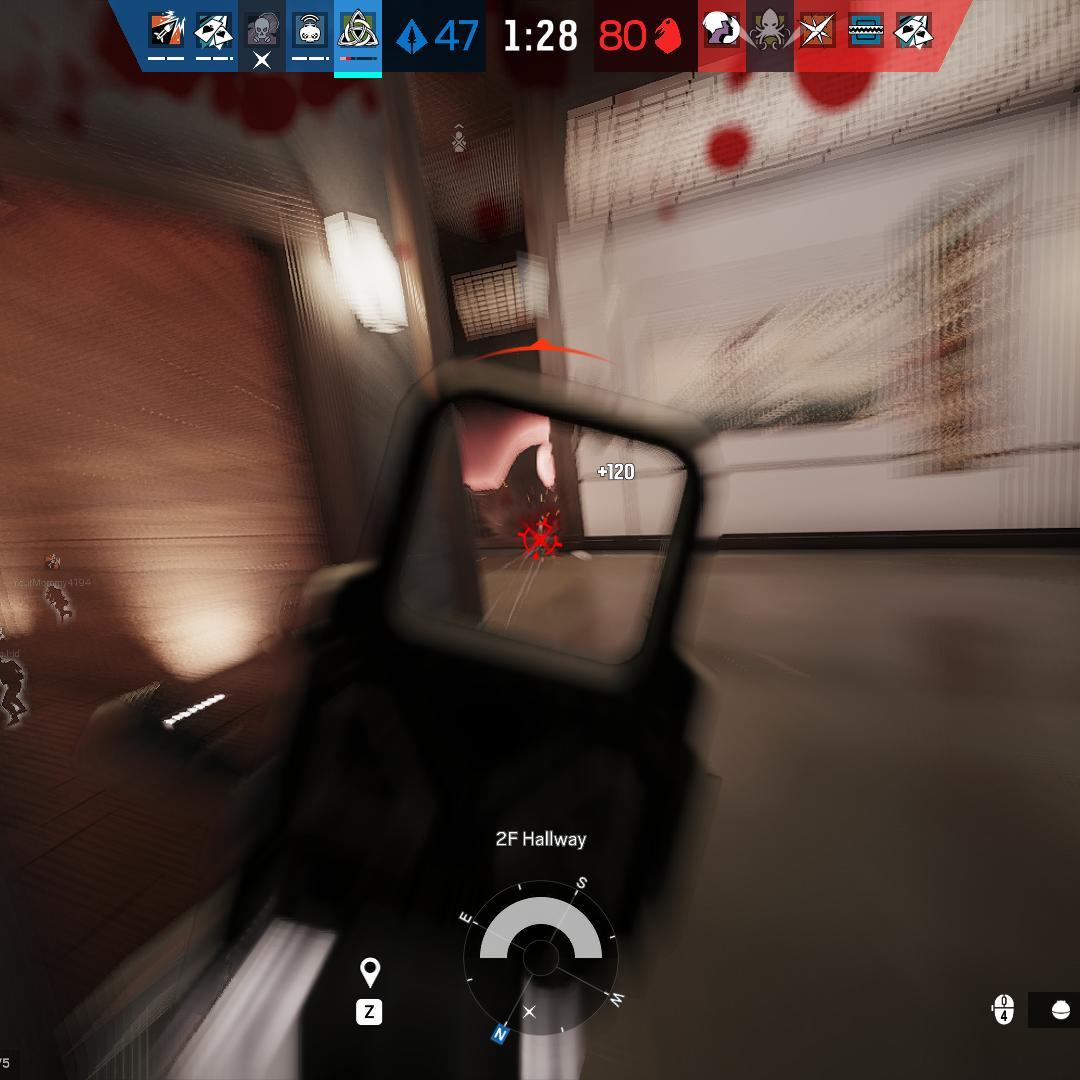Friend_label: (15, 550, 95, 590)
